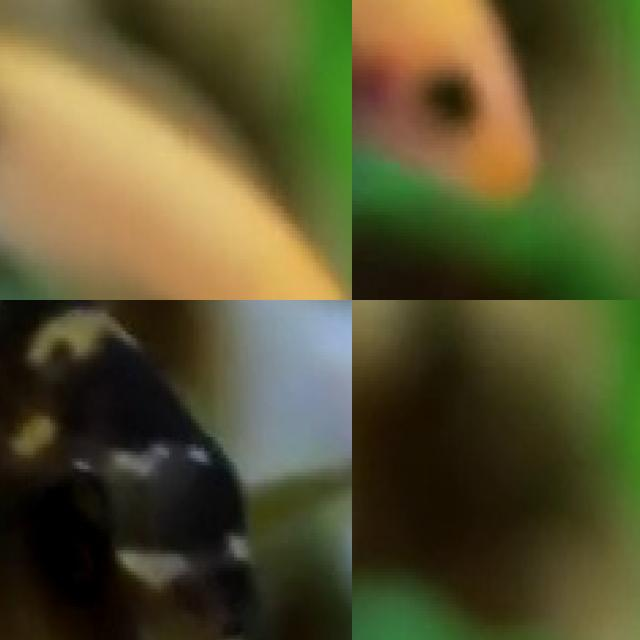fish: (0, 0, 352, 300), (0, 300, 288, 640)
